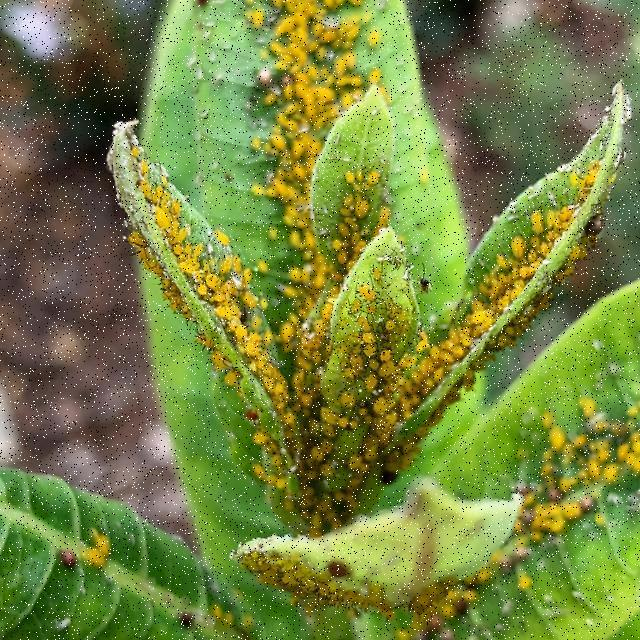Aphids: (343, 184, 377, 220), (356, 276, 386, 309), (509, 228, 532, 264)
